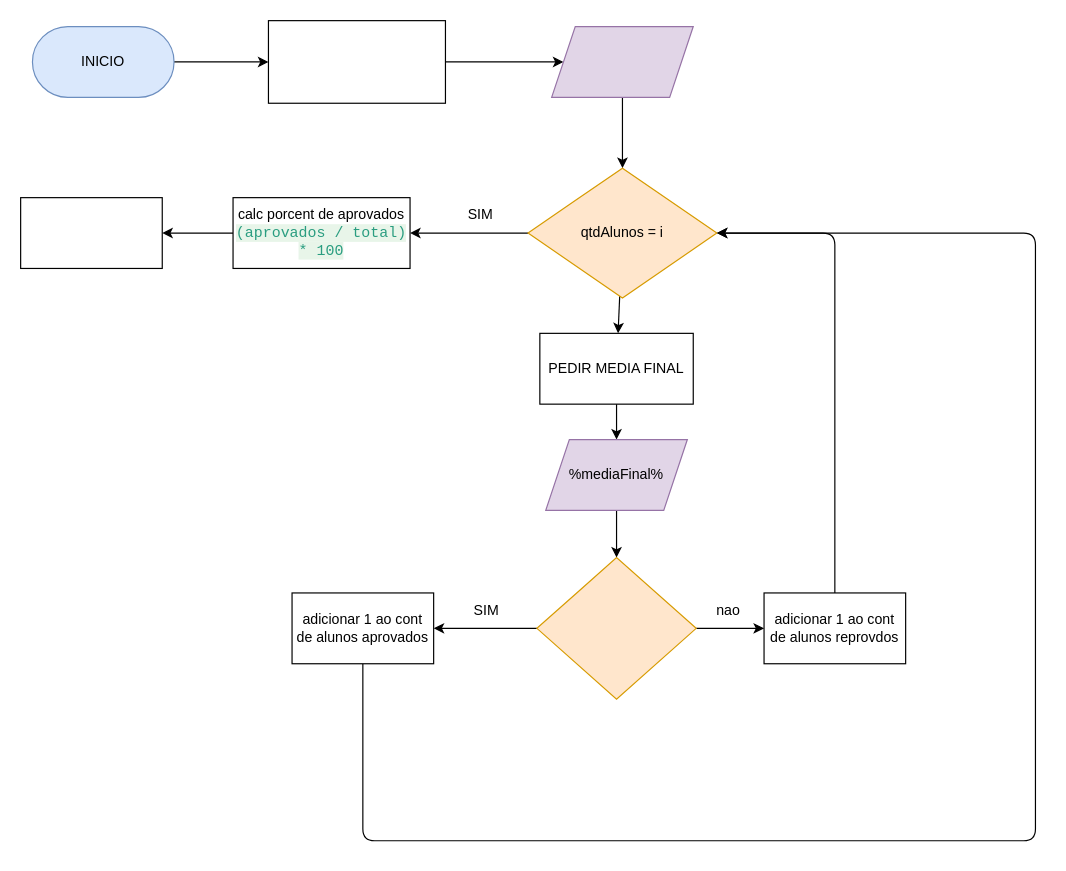
Image size: 1066x871. Some labels were removed from this diagram. Here are the shapes that lost their labels. From the top down, the centre of each, then its label:
At (356,61): "PEDIR QUANTIDADE DE ALUNOS NA TURMA".
At (621,61): "%qtdAlunos%".
At (90,232): "Mostrar porcent. aprovados da sala".
At (616,627): "media final >= 7".
